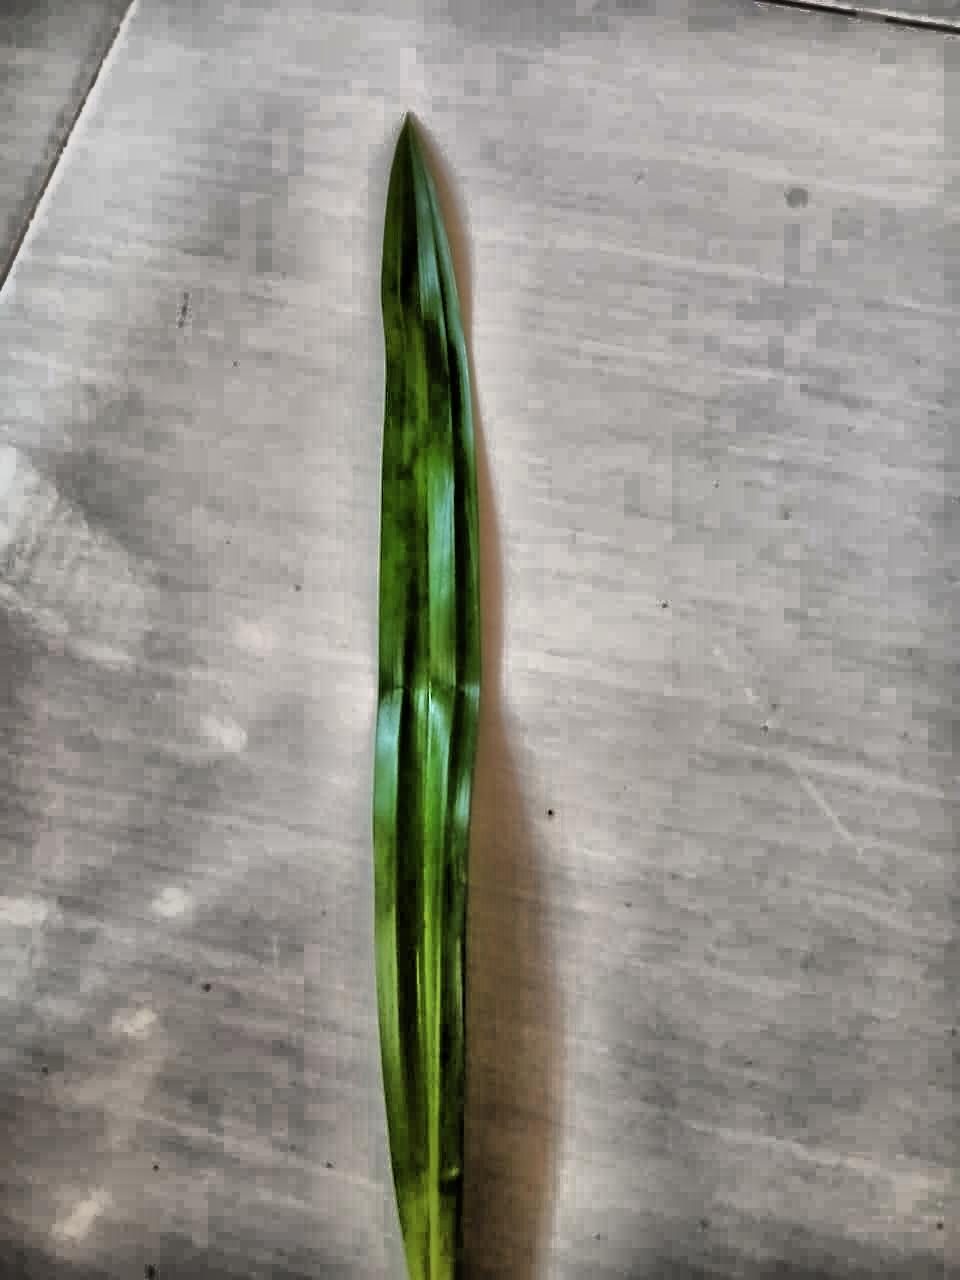daun pandan: (372, 115, 481, 1279)
